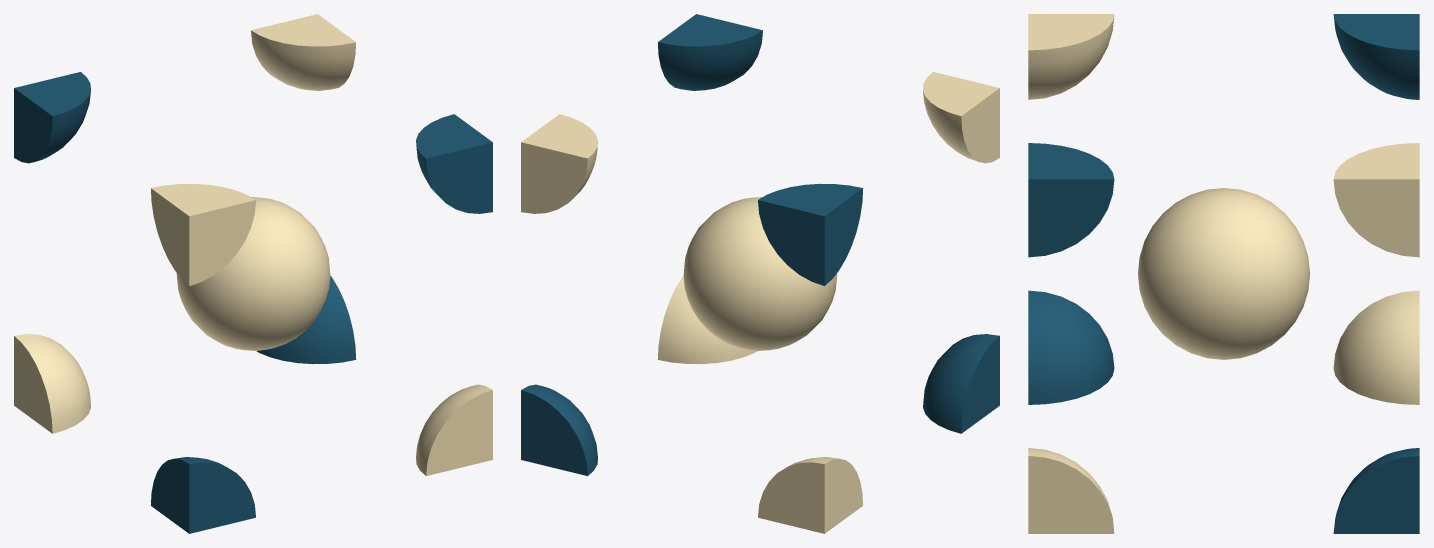
The model's file is jingbao1-B.gltf.
3 views of the same model, side by side, from view 1: azimuth 30°, elevation 25°; view 2: azimuth 150°, elevation 25°; view 3: azimuth 270°, elevation 25° (orthographic). The views are drawn at different scales.
Visible parts, largest first — view 1: 2, 1; view 2: 2, 1; view 3: 2, 1.
Boxes of the visible parts, x1,y1,x2,y2 form: 2: (14,14,492,475); 1: (14,72,492,533); 2: (521,72,999,533); 1: (521,14,999,475); 2: (1028,14,1419,533); 1: (1028,14,1419,533).
Size of the model in its own units: 50 by 50 by 50.
2 materials, 2 textured.
